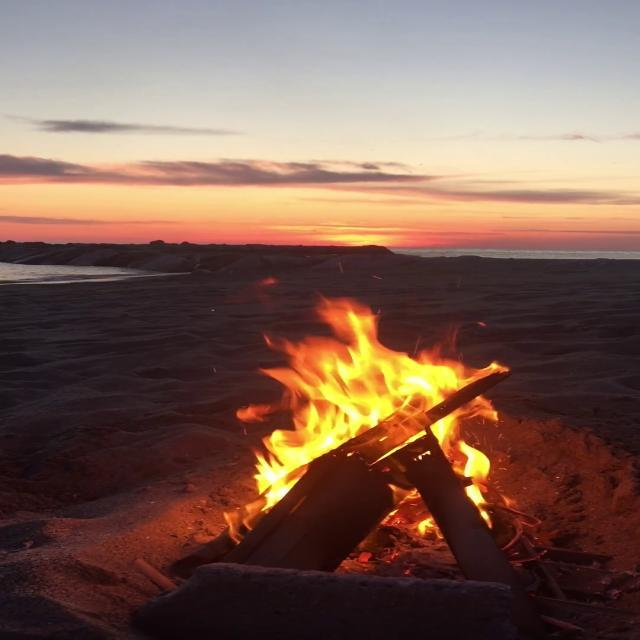Fire: (220, 292, 524, 538)
